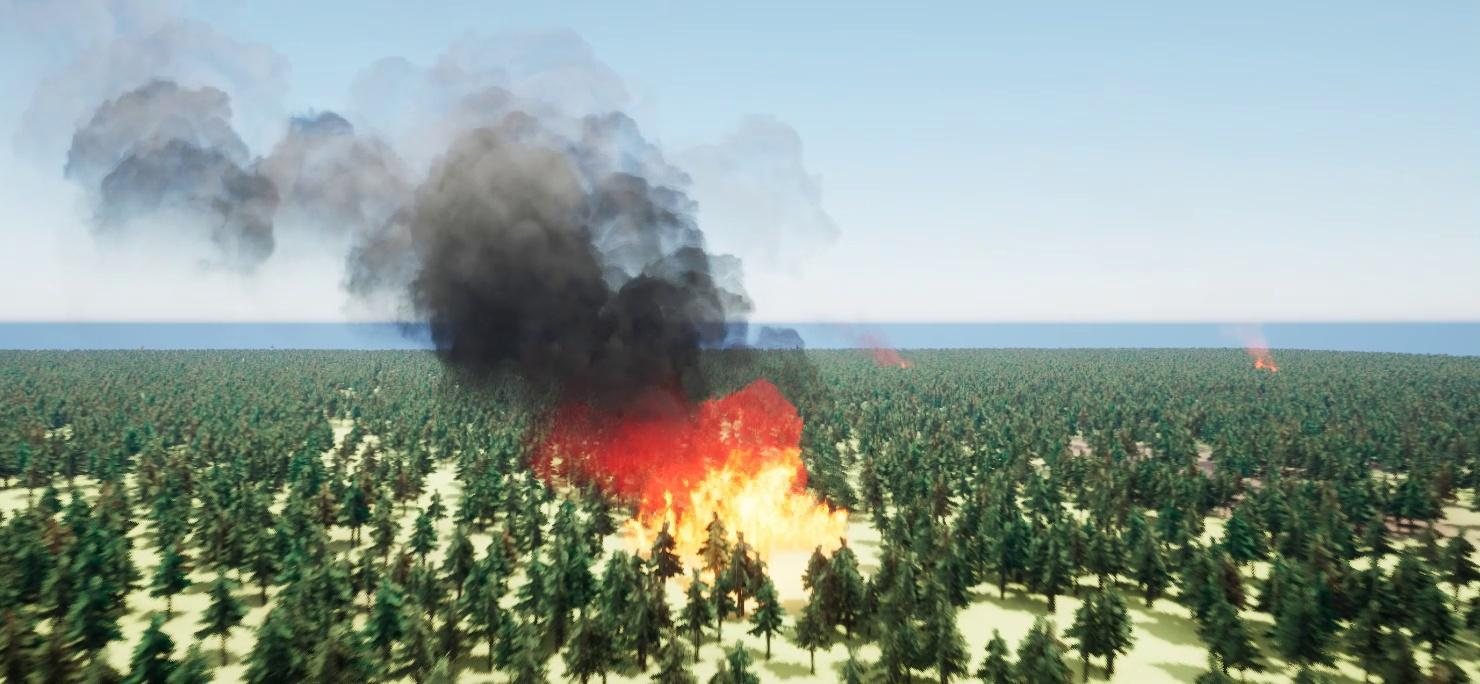fire: (527, 395, 845, 563)
smoke: (0, 0, 839, 394), (854, 318, 919, 374), (1236, 320, 1281, 376)
